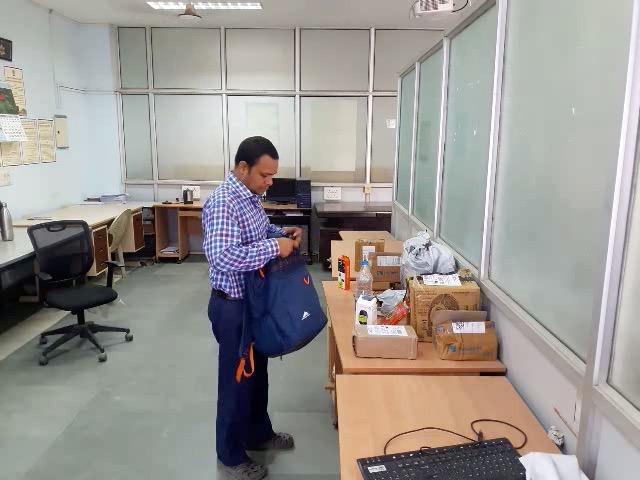shoplifting: (192, 210, 371, 360)
